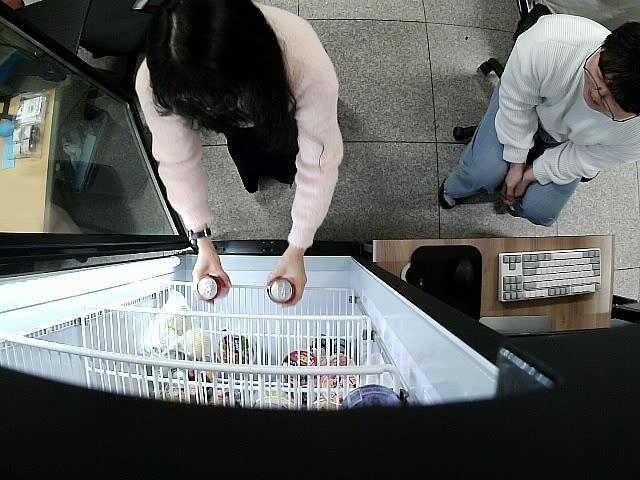11_cocaColaZero: (196, 275, 230, 302), (268, 278, 296, 305)
